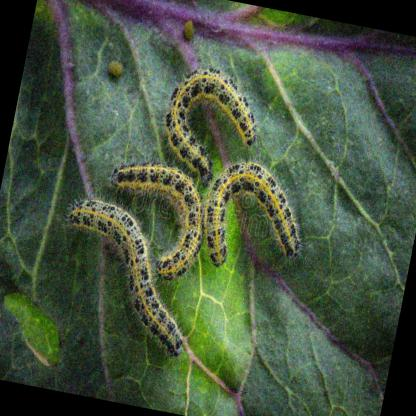pieris: (67, 196, 184, 359), (164, 64, 256, 189), (114, 165, 206, 280), (204, 158, 300, 265)
